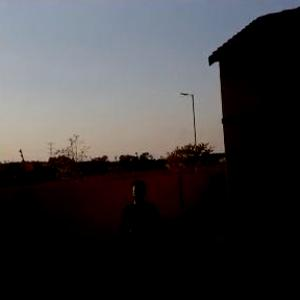follow: (114, 172, 166, 299)
